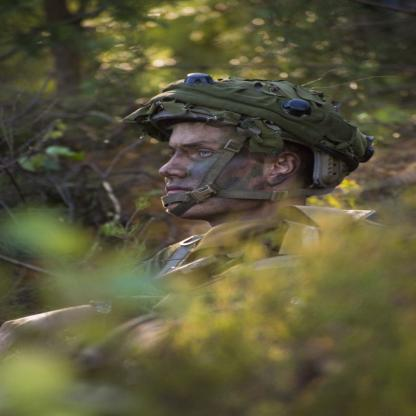Helmet: (128, 74, 375, 214)
